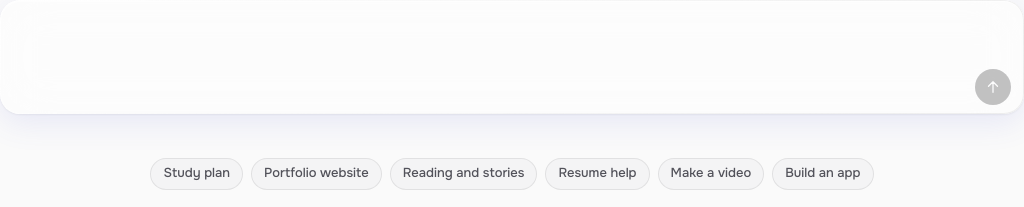
Test case: GoalForm › fills the input from a suggestion chip without submitting
Click the button "Study plan" at (197, 174), box [150,158,243,190]
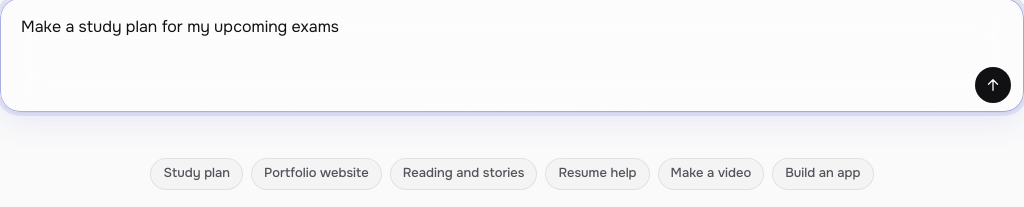
expect the message is empty: met, box [0,122,1023,142]
expect the text box named "What do you want to do with AI?" holds "Make a study plan for my upcoming exams": met, box [21,11,1011,67]
